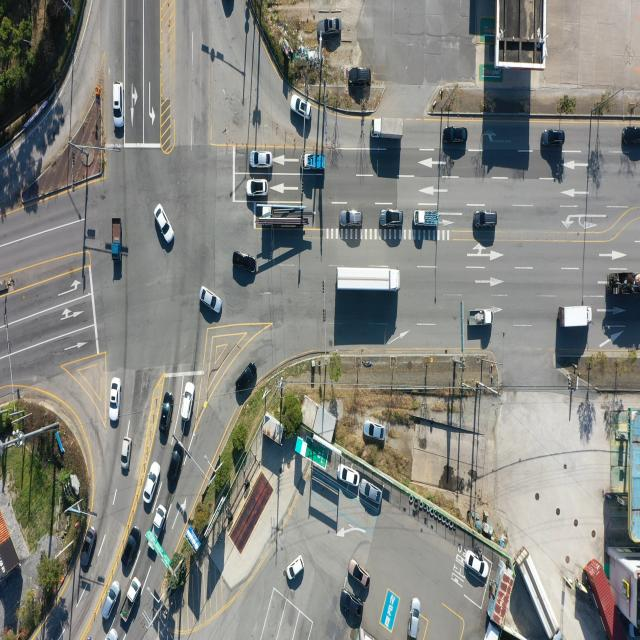car: (123, 528, 143, 569), (143, 461, 161, 504), (168, 443, 184, 491), (156, 205, 175, 245), (101, 581, 120, 621), (200, 285, 223, 315), (236, 361, 256, 393), (289, 94, 311, 122), (342, 590, 364, 618), (468, 552, 490, 579), (350, 560, 370, 588), (361, 480, 383, 505), (181, 382, 194, 422), (410, 598, 422, 640), (234, 251, 258, 272), (338, 464, 360, 486), (113, 84, 123, 132), (286, 556, 304, 582), (162, 395, 174, 433), (363, 421, 385, 441), (110, 379, 120, 423), (350, 66, 372, 86), (381, 209, 404, 228), (474, 210, 498, 228), (445, 126, 469, 144), (540, 130, 564, 148), (341, 210, 364, 228), (252, 150, 274, 168), (247, 180, 268, 197), (121, 438, 130, 474), (622, 128, 640, 146), (322, 18, 341, 35), (109, 627, 120, 640)
medium_truck: (518, 544, 562, 637), (338, 268, 402, 294), (262, 202, 308, 232), (559, 306, 592, 331), (610, 272, 640, 298), (371, 116, 404, 138)
small_truck: (120, 574, 142, 626), (147, 505, 166, 555), (111, 221, 124, 260), (469, 308, 494, 326), (414, 210, 438, 228), (305, 156, 326, 172)
